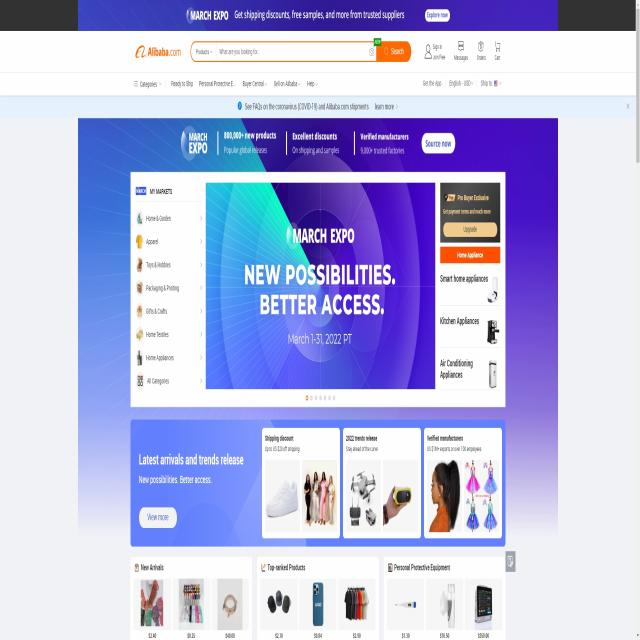menu-bar: (422, 37, 504, 68)
search: (190, 36, 412, 67)
tab-bar: (131, 71, 321, 96)
